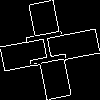H: (25, 25, 76, 70)
